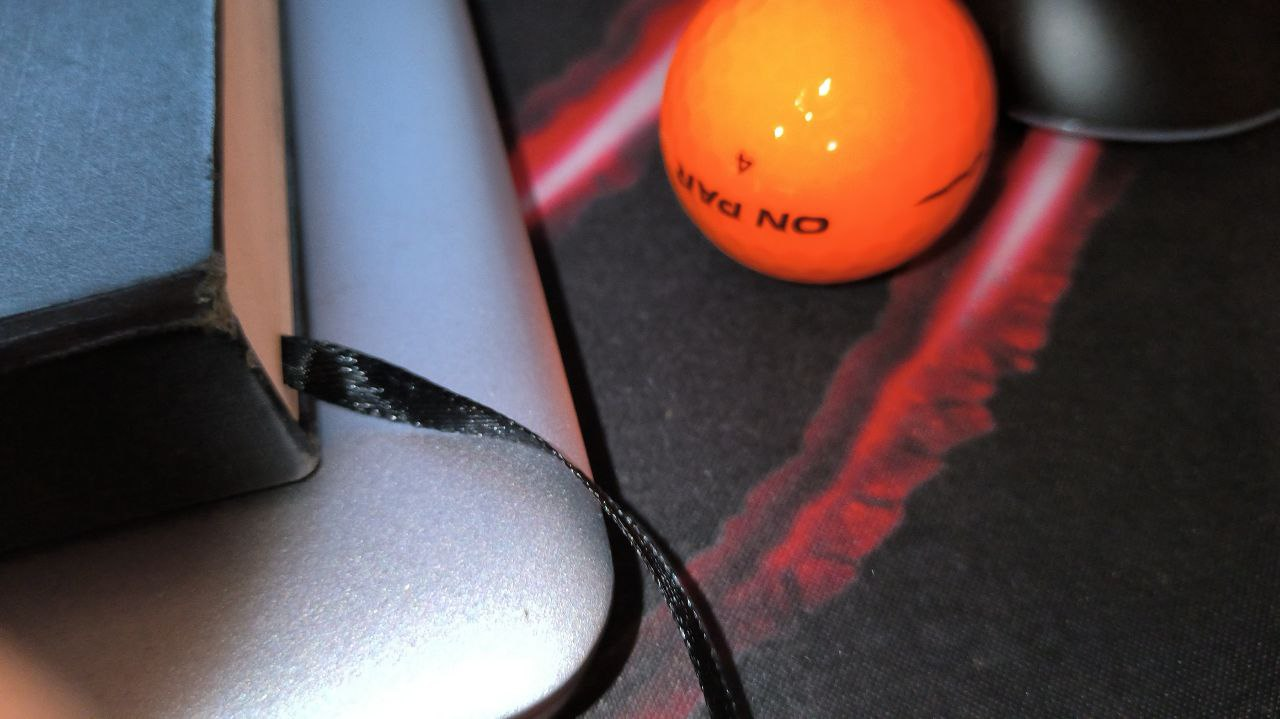orange_ball: (659, 0, 996, 285)
